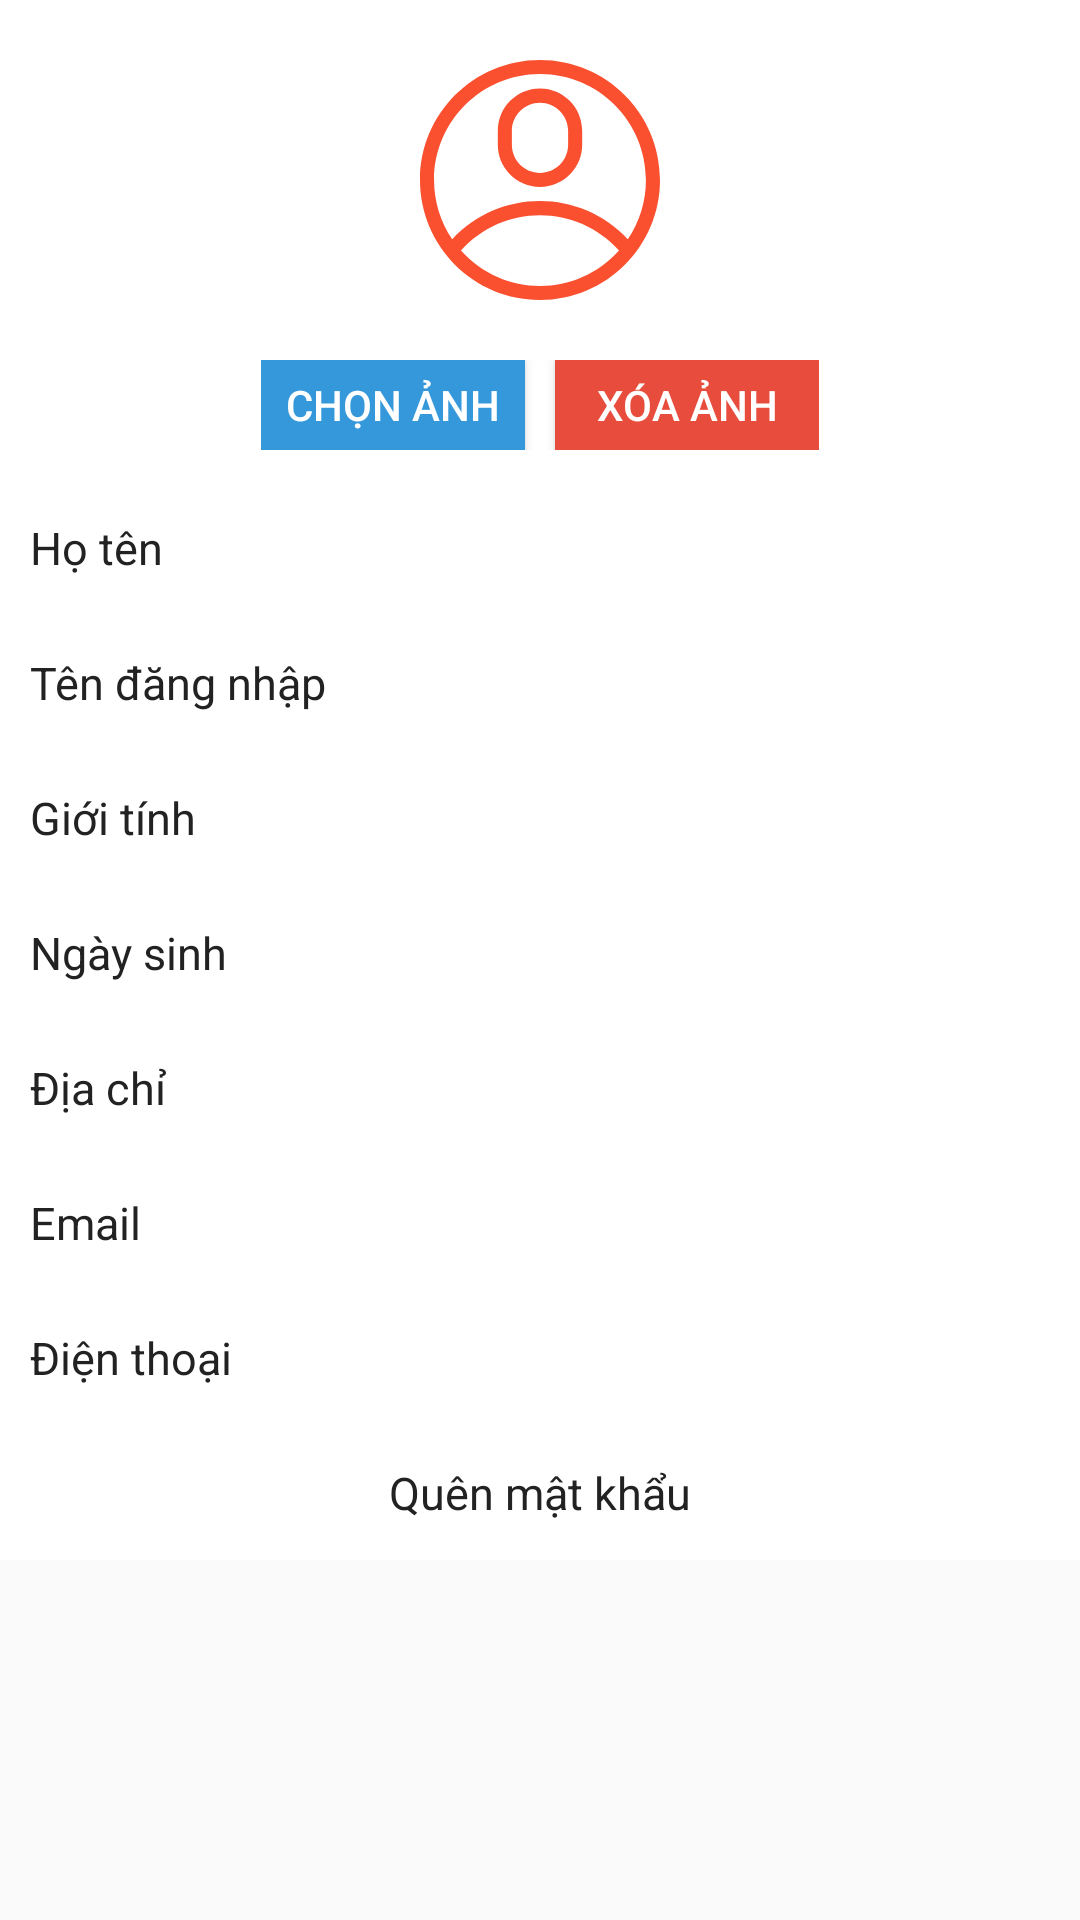

Named icons in this screenshot (1080 × 1920) and their bounding boxes, (x1, y1, x2, y2):
account: (420, 60, 660, 300)
